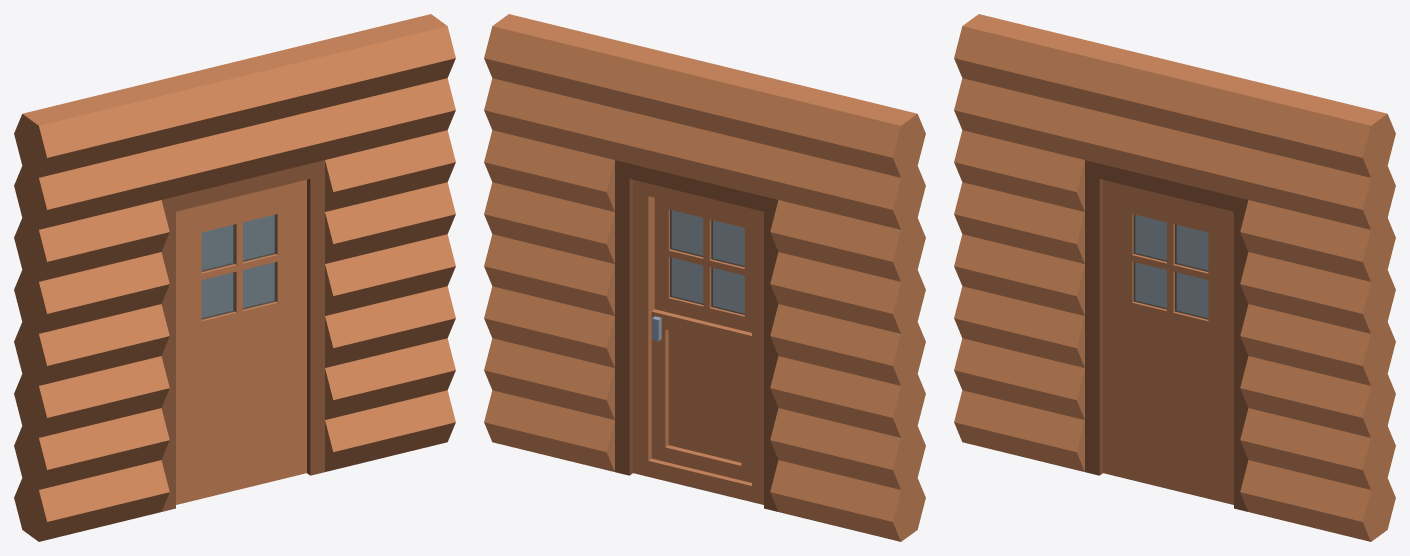
Rendered from cabinDoor.fbx.
3 renders of one model, left to right at view 1: azimuth 30°, elevation 25°; view 2: azimuth 150°, elevation 25°; view 3: azimuth 330°, elevation 25°, orthographic.
Visible parts, largest first — view 1: cabinDoor, door, frame; view 2: cabinDoor, door, frame; view 3: cabinDoor, door, frame.
Boxes of the visible parts, x1,y1,x2,y2 form: cabinDoor: (14,14,455,541); door: (176,180,306,504); frame: (161,160,324,511); cabinDoor: (484,14,925,541); door: (633,180,763,504); frame: (615,160,778,511); cabinDoor: (954,14,1395,541); door: (1103,180,1233,504); frame: (1085,160,1248,511).
Size of the model in its own units: 10 by 9.73 by 1.4.
